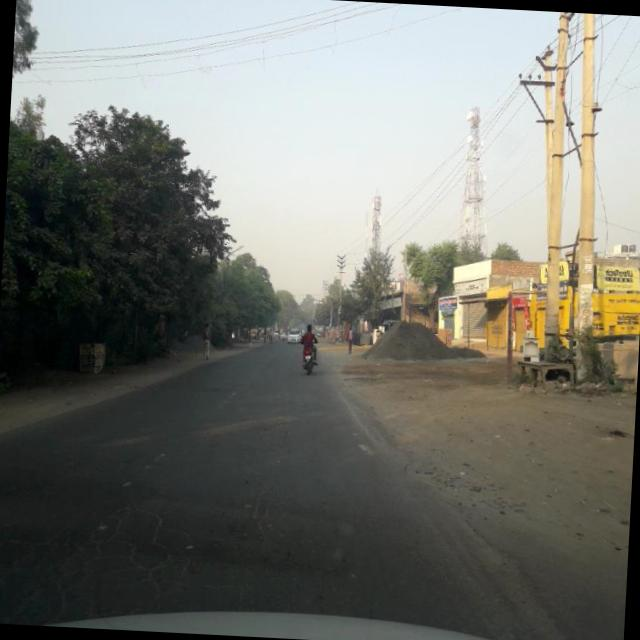crack: (11, 490, 208, 620)
